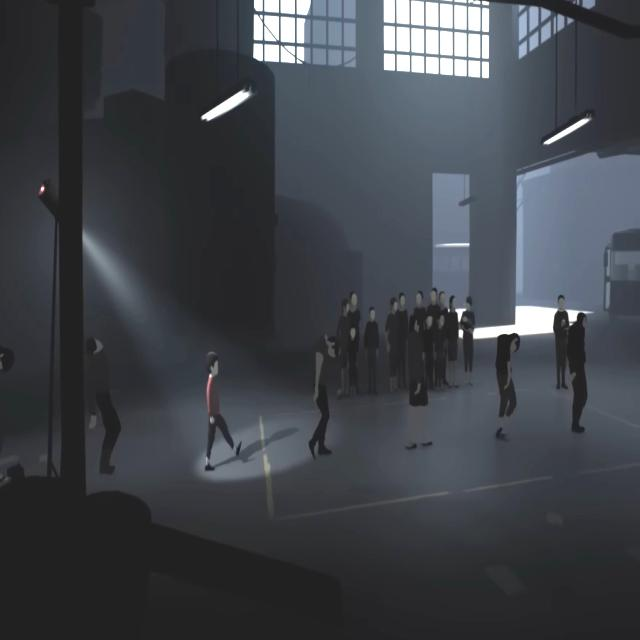boy: (205, 351, 242, 471)
human: (553, 294, 569, 390), (460, 296, 475, 386), (364, 306, 379, 395), (386, 298, 400, 392), (338, 298, 350, 397), (448, 296, 458, 388), (347, 324, 358, 397), (424, 312, 434, 391), (435, 312, 445, 390), (426, 288, 441, 312), (413, 290, 426, 315), (350, 292, 360, 324), (398, 293, 408, 314), (439, 291, 447, 313)
zombie: (85, 337, 121, 475), (309, 334, 339, 460), (406, 315, 433, 449), (567, 312, 588, 434), (496, 332, 520, 438), (0, 344, 14, 490)
